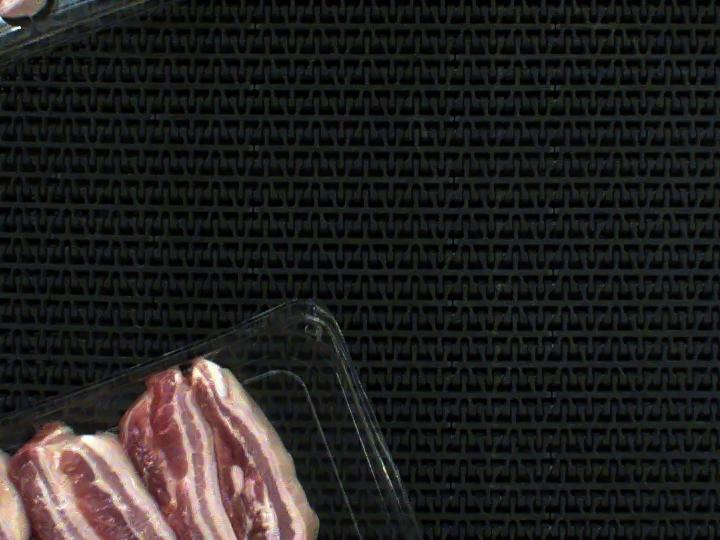packaging-error: (123, 348, 258, 400), (0, 415, 31, 482)
